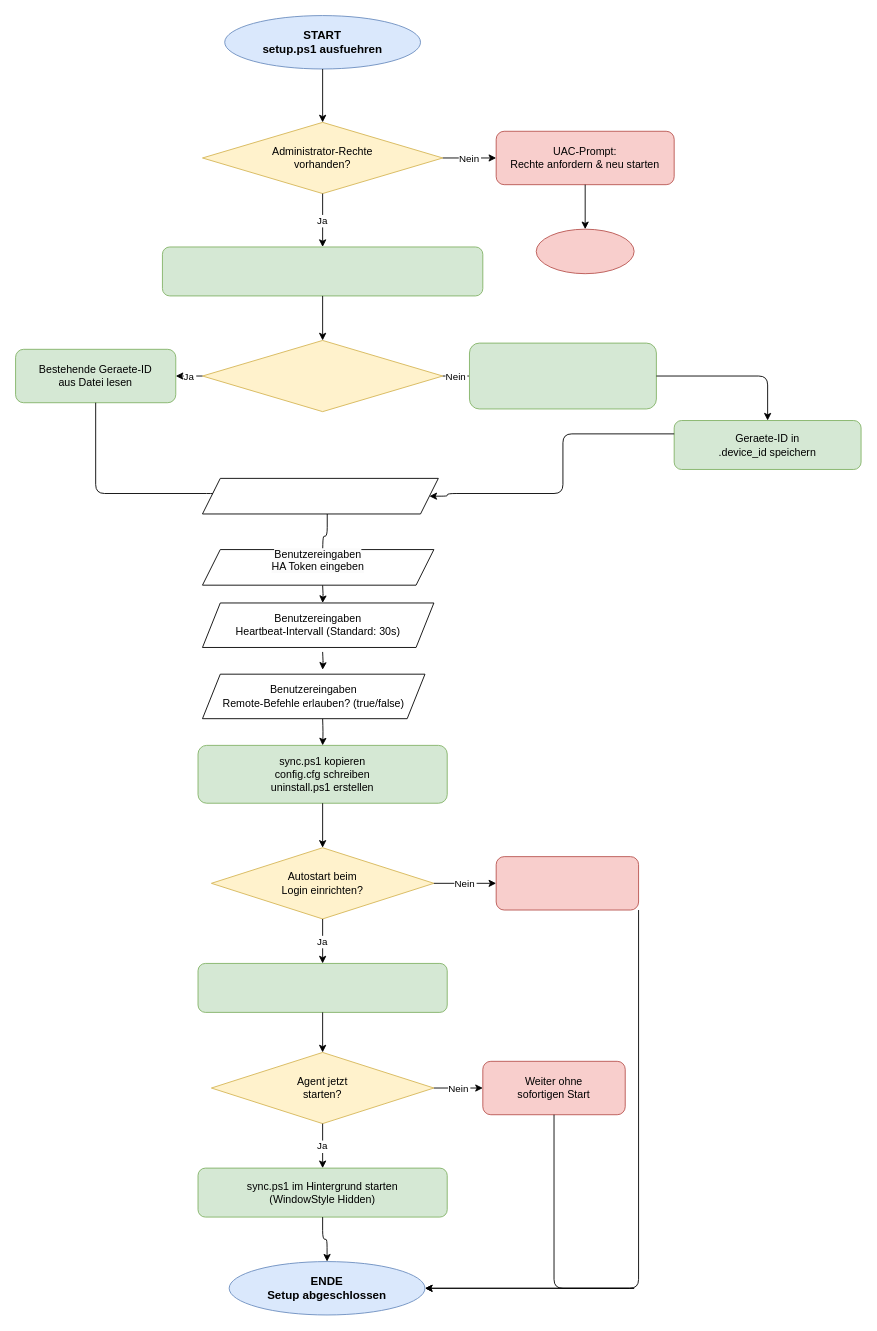
Image size: 877x1331. Some labels were removed from this diagram. Each missing label, with the centre of its shape:
".device_id Datei vorhanden?" goes at point 322,376.
"Autostart ueberspringen" goes at point 567,883.
"Autostart-Verknuepfung erstellen (.lnk)" goes at point 322,987.
"Benutzereingaben HA URL eingeben" goes at point 320,495.
"EXIT" goes at point 584,251.
"Installationsverzeichnis erstellen C:\Program Files\Home-Assistant-Computer-Sync" goes at point 322,271.
"Neue Geraete-ID generieren aus COMPUTERNAME (Sonderzeichen -> Unterstrich)" goes at point 562,375.
